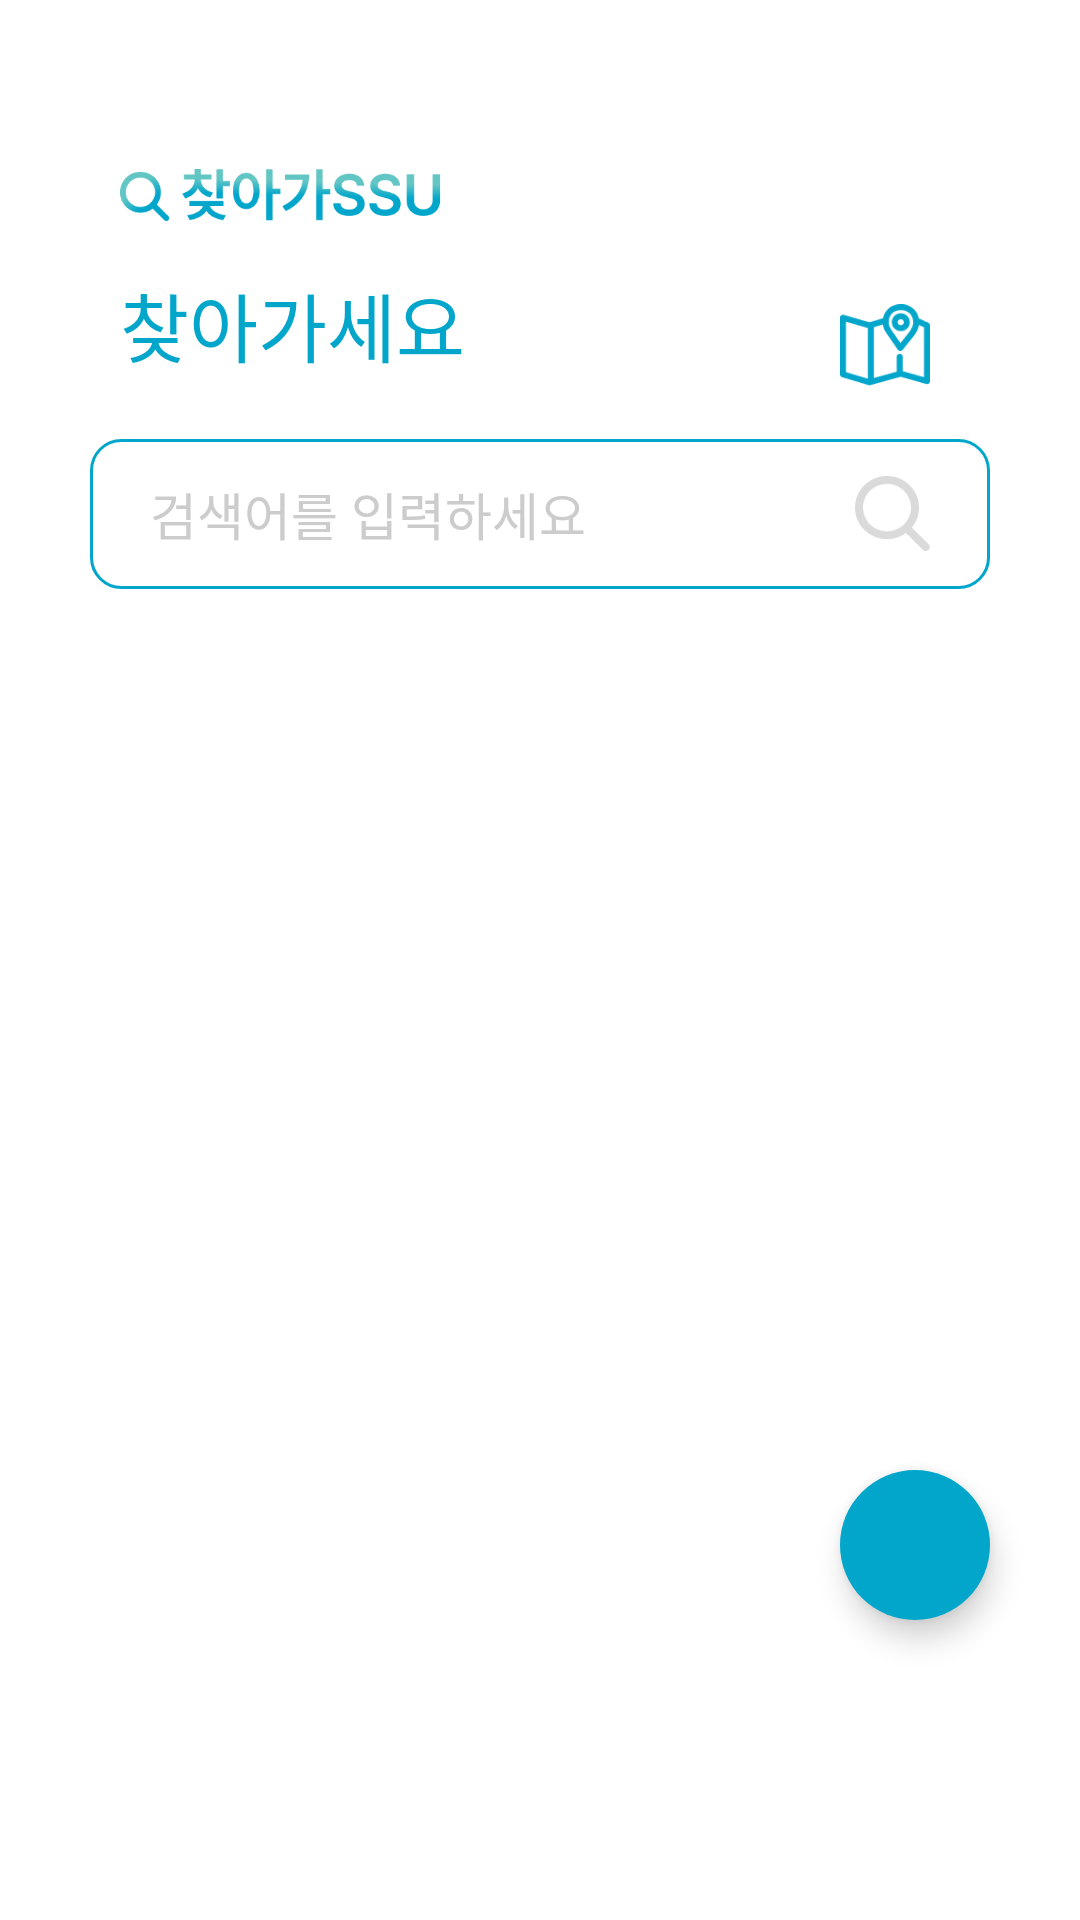

Icons on this 1080px x 1920px Android screen, each with the point to tap as (x=x, y=y):
find map: (x=885, y=345)
